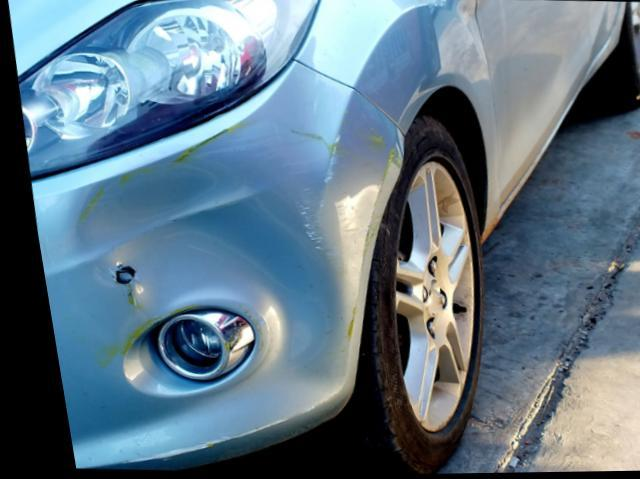dent: (69, 166, 319, 353)
scratch: (167, 124, 395, 293), (109, 417, 276, 467)
